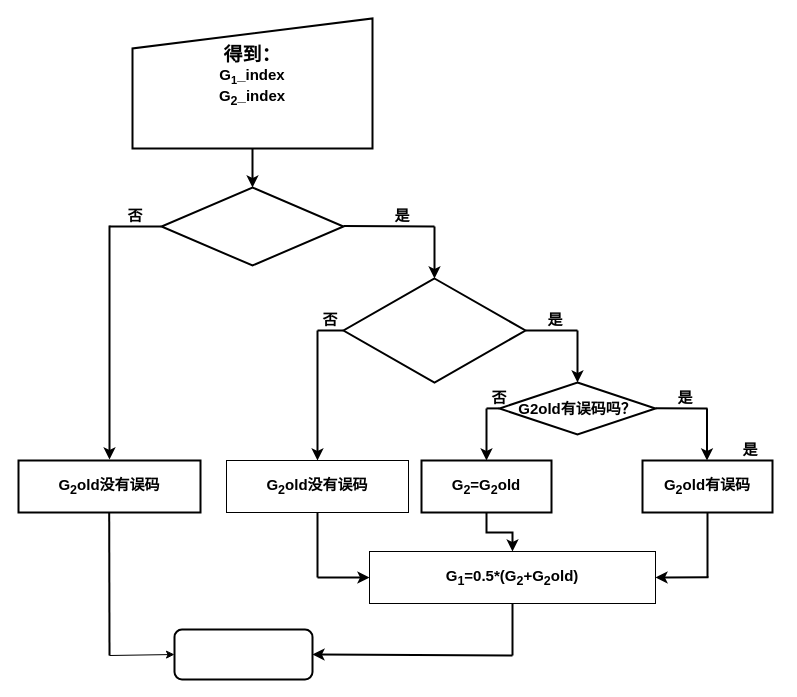
This 797x697 diagram has some shape labels left out. Each missing label, with the centre of its shape:
"G 1 _index=0" goes at [252,226].
"G 2 old=G 2" goes at [243,654].
"|G 2 old-G2|>5" goes at [434,330].
